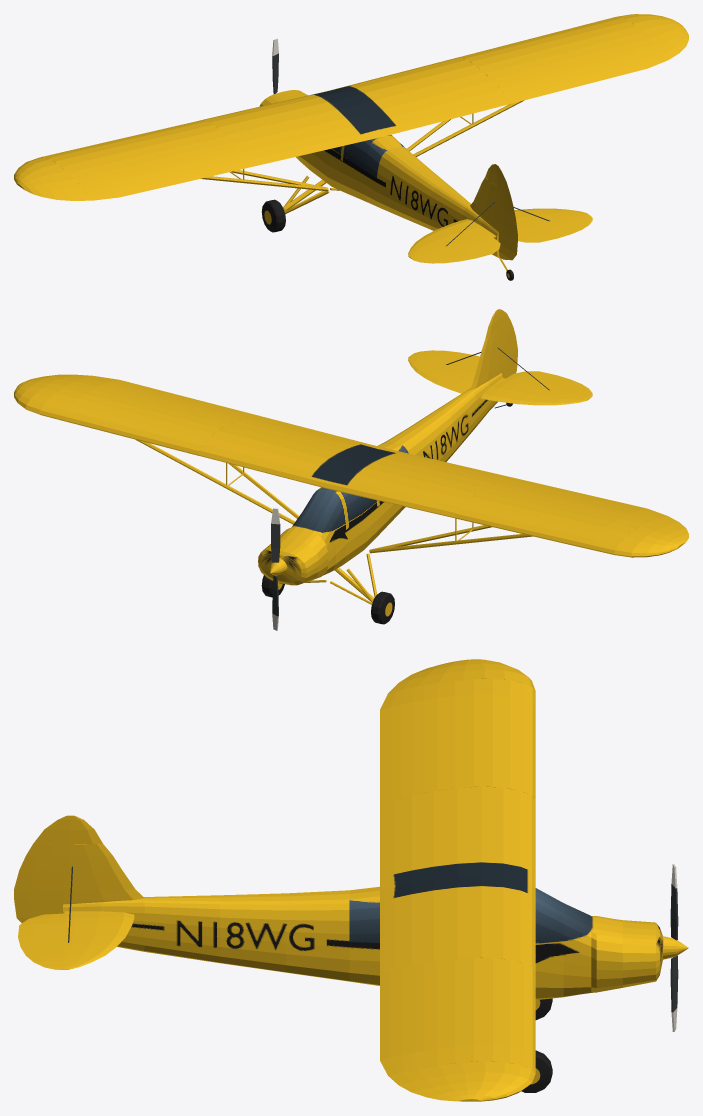
Rendered from super-cub.glb.
3 renders of one model, top to bottom at view 1: azimuth 30°, elevation 25°; view 2: azimuth 150°, elevation 25°; view 3: azimuth 270°, elevation 25°, orthographic. The views are drawn at different scales.
Parts seen in each view (by area): view 1: super-cub, elevator, rudder, flap_r, flap_l, aileron_l, aileron_r; view 2: super-cub, elevator, rudder, prop, flap_r, flap_l, aileron_l, aileron_r; view 3: super-cub, rudder, elevator, flap_l, aileron_r, flap_r, aileron_l, prop.
Boxes of the visible parts, x1,y1,x2,y2 form: super-cub: (14,14,688,280); elevator: (410,214,592,263); rudder: (485,164,517,260); flap_r: (501,69,590,103); flap_l: (164,152,254,184); aileron_l: (84,170,175,200); aileron_r: (580,49,667,82); super-cub: (14,329,688,624); elevator: (411,350,592,399); rudder: (485,309,517,378); prop: (271,508,280,630); flap_r: (164,394,253,417); flap_l: (501,477,590,498); aileron_l: (580,495,667,518); aileron_r: (85,376,174,397); super-cub: (63,659,688,1101); rudder: (14,815,102,922); elevator: (18,913,64,969); flap_l: (380,740,412,801); aileron_r: (380,1017,412,1075); flap_r: (380,966,412,1024); aileron_l: (380,687,412,747); prop: (670,864,678,1031).
Bounding box in the file's own units: 10.72 × 2.72 × 6.96.
1 material, 1 textured.
